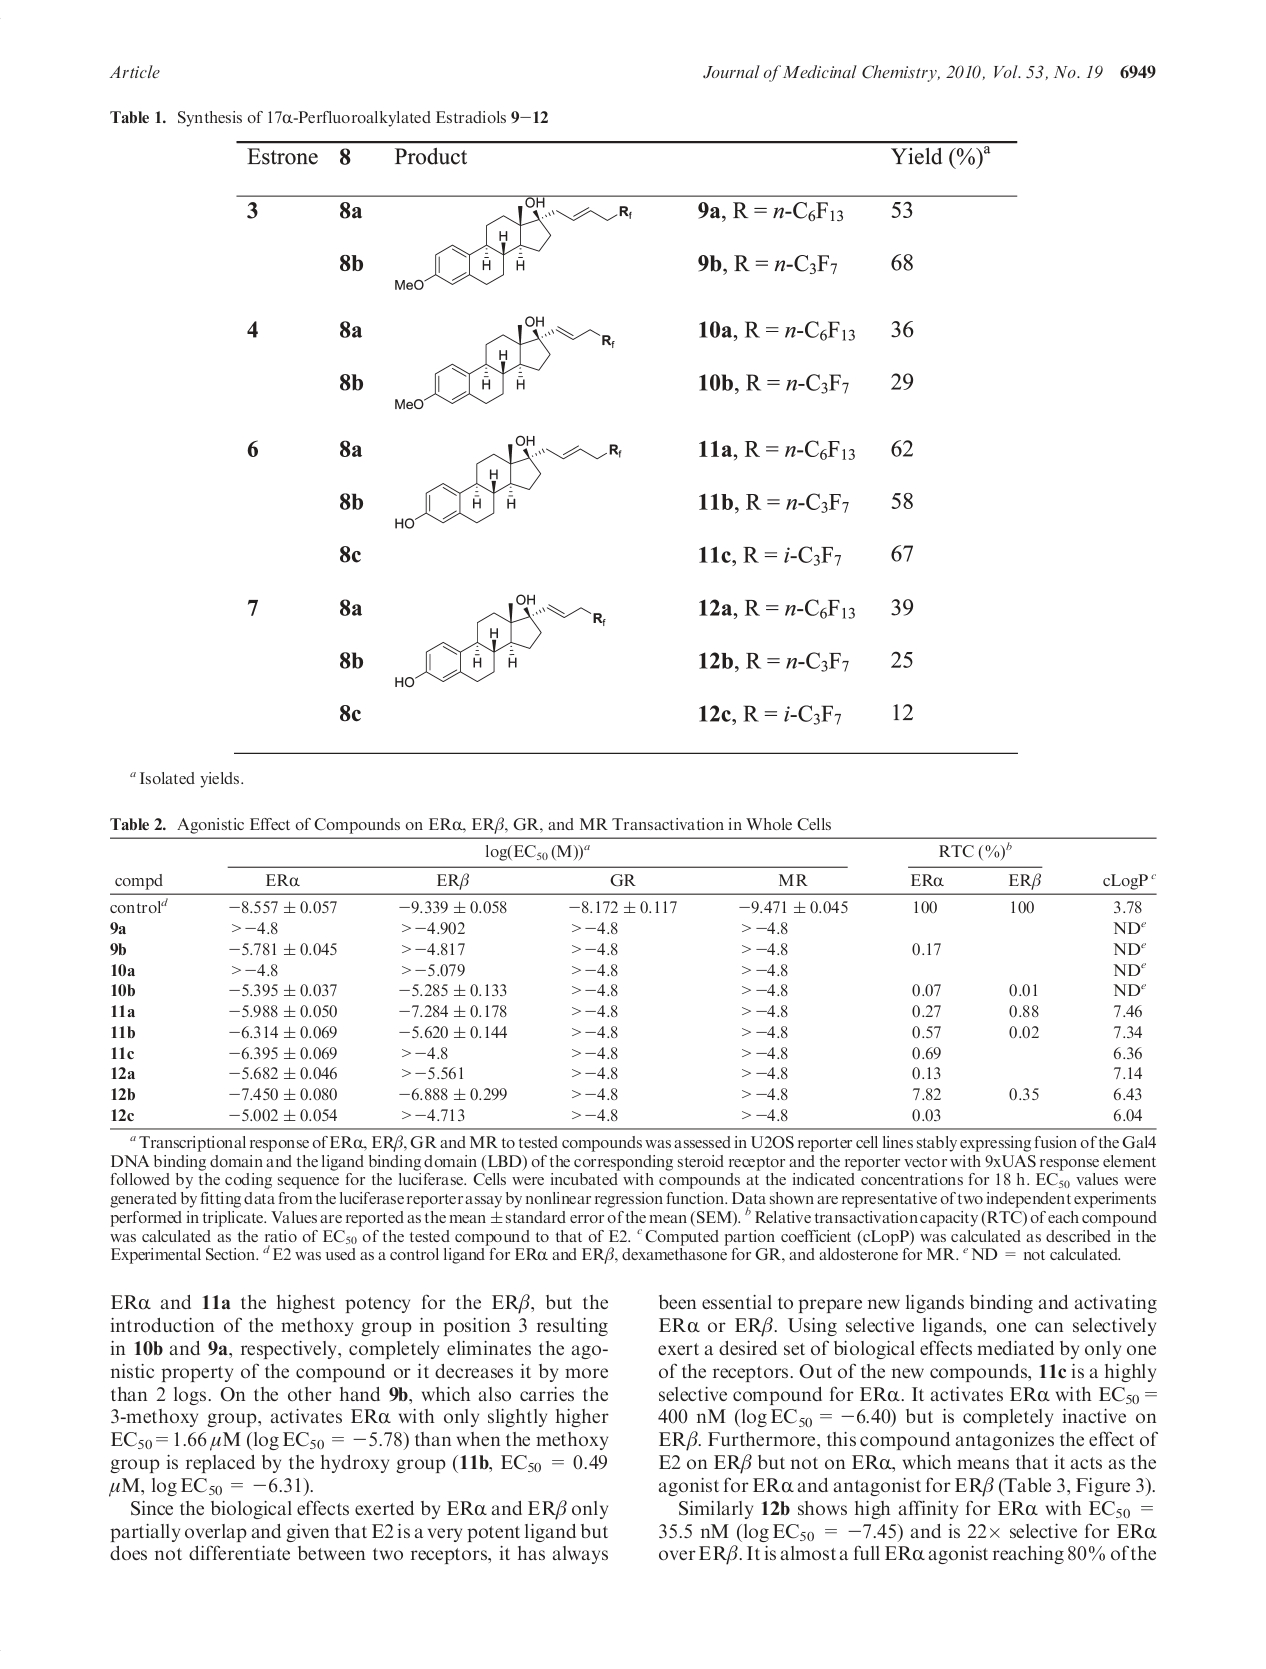exist_molecular: (391, 195, 636, 293), (392, 313, 614, 414), (392, 436, 622, 531), (394, 592, 608, 690)
